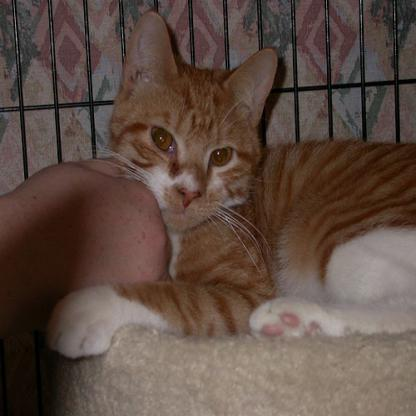cat: (47, 10, 415, 358)
